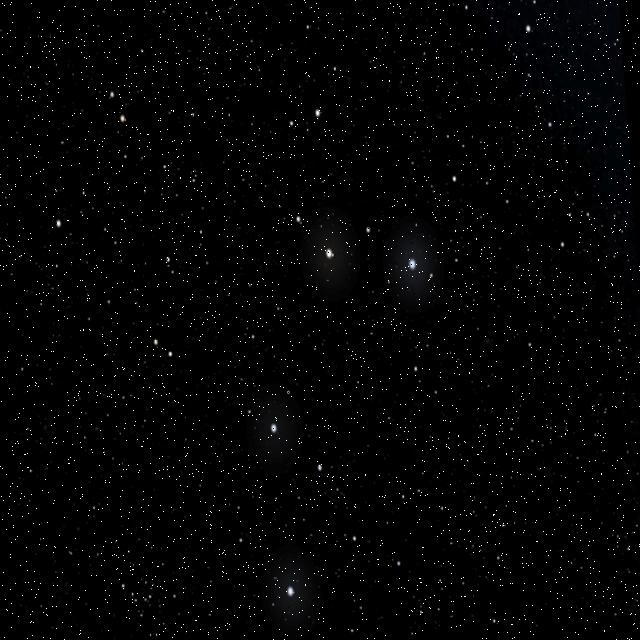Leo: (227, 69, 446, 613)
